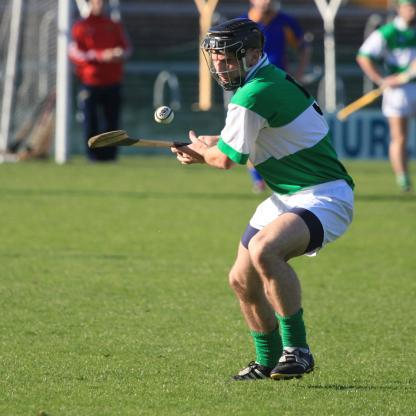Helmet: (198, 15, 270, 92)
